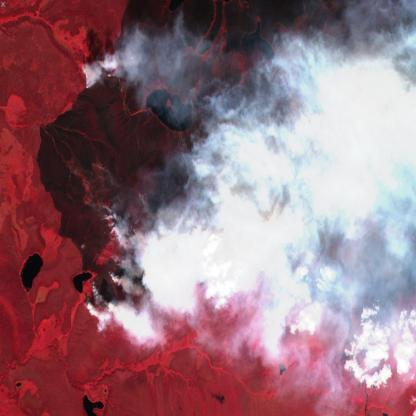fire: (73, 43, 299, 326)
